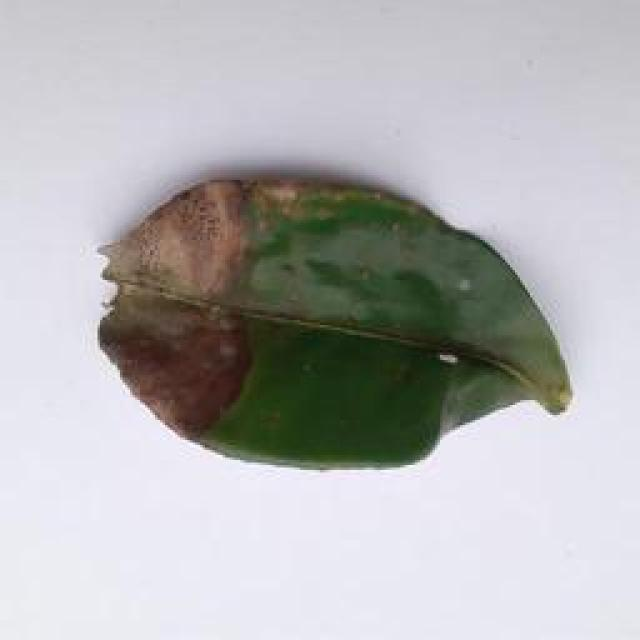Gray Blight: (78, 170, 582, 487)
